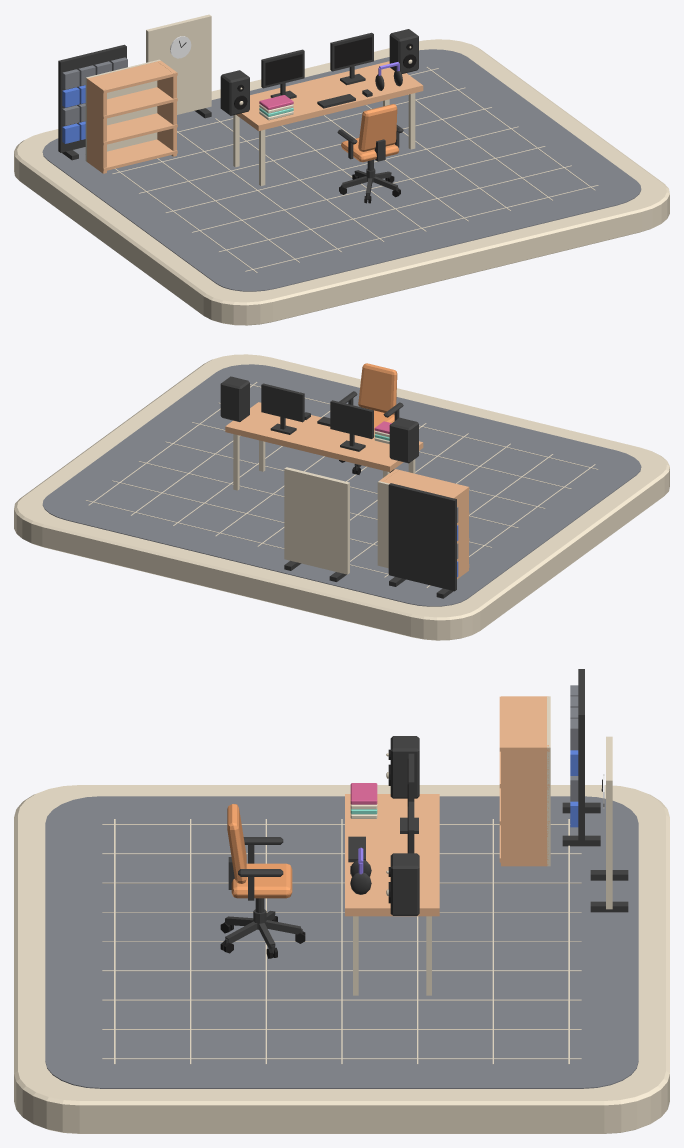
3 views of the same model, one above another, from view 1: azimuth 30°, elevation 25°; view 2: azimuth 150°, elevation 25°; view 3: azimuth 270°, elevation 25° (orthographic). The views are drawn at different scales.
Parts seen in each view (by area): view 1: COM-02 Floor Surface, COM-01 Rounded Base Direct, Top, Panel.001, COM-04_Chair_blender_direct, Panel, Side, Frame.001, Frame, Back, Shelf.003, Shelf (+9 smaller); view 2: COM-02 Floor Surface, COM-01 Rounded Base Direct, Panel, Panel.001, Top, COM-04_Chair_blender_direct, Frame.001, Frame, Enclosure, Enclosure.001, Shelf.003, Back (+1 smaller); view 3: COM-02 Floor Surface, COM-01 Rounded Base Direct, Top, COM-04_Chair_blender_direct, Side.001, Shelf.003, Enclosure.001, Enclosure, Panel, Panel.001, Grout X.006, Grout X.008 (+2 smaller).
Part boxes in pixels (bbox=[...]): COM-02 Floor Surface: bbox=[42, 49, 641, 291]; COM-01 Rounded Base Direct: bbox=[14, 39, 669, 325]; Top: bbox=[233, 61, 423, 185]; Panel.001: bbox=[146, 14, 211, 114]; COM-04_Chair_blender_direct: bbox=[337, 104, 403, 203]; Panel: bbox=[58, 44, 126, 152]; Side: bbox=[87, 77, 106, 173]; Frame.001: bbox=[330, 32, 373, 85]; Frame: bbox=[261, 49, 304, 98]; Back: bbox=[85, 59, 160, 161]; Shelf.003: bbox=[87, 61, 177, 93]; Shelf: bbox=[87, 139, 177, 171]; COM-02 Floor Surface: bbox=[42, 364, 641, 606]; COM-01 Rounded Base Direct: bbox=[14, 354, 669, 640]; Panel: bbox=[388, 483, 456, 591]; Panel.001: bbox=[284, 467, 349, 574]; Top: bbox=[225, 402, 423, 490]; COM-04_Chair_blender_direct: bbox=[339, 363, 403, 474]; Frame.001: bbox=[261, 383, 304, 434]; Frame: bbox=[330, 400, 373, 451]; Enclosure: bbox=[389, 417, 418, 463]; Enclosure.001: bbox=[220, 376, 249, 421]; Shelf.003: bbox=[383, 469, 469, 498]; Back: bbox=[377, 481, 389, 568]; COM-02 Floor Surface: bbox=[45, 796, 638, 1088]; COM-01 Rounded Base Direct: bbox=[14, 785, 669, 1133]; Top: bbox=[345, 794, 439, 995]; COM-04_Chair_blender_direct: bbox=[220, 804, 305, 958]; Side.001: bbox=[501, 745, 548, 866]; Shelf.003: bbox=[499, 696, 549, 751]; Enclosure.001: bbox=[390, 853, 419, 915]; Enclosure: bbox=[390, 736, 419, 798]; Panel: bbox=[578, 669, 584, 843]; Panel.001: bbox=[606, 736, 612, 909]; Grout X.006: bbox=[102, 999, 581, 1000]; Grout X.008: bbox=[102, 1058, 581, 1059].
Bounding box in the file's own units: 6 × 1.61 × 5.2.
1 material, 1 textured.
